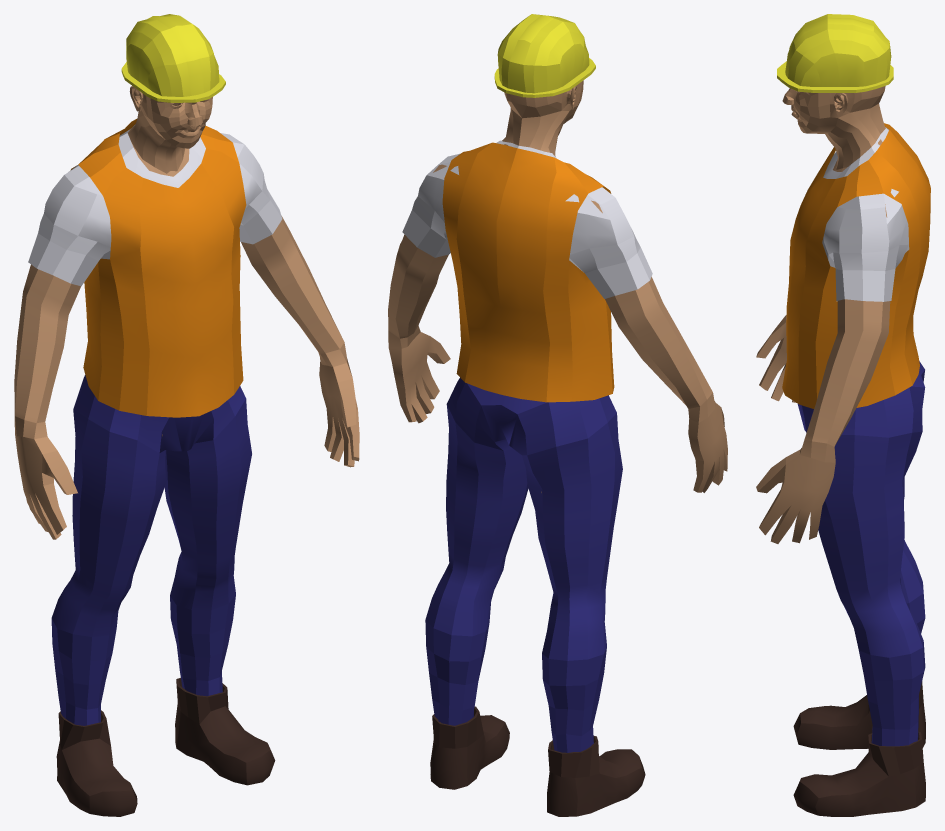
File: construction_worker_model.fbx
The picture shows the model from 3 angles, left to right: view 1: azimuth 30°, elevation 25°; view 2: azimuth 150°, elevation 25°; view 3: azimuth 270°, elevation 25°; orthographic projection.
Visible parts, largest first — view 1: pants, high_viz_vest, character_mesh, character_model_boots1, t_shirt, con_cap; view 2: pants, high_viz_vest, character_mesh, character_model_boots1, t_shirt, con_cap; view 3: pants, high_viz_vest, character_mesh, character_model_boots1, t_shirt, con_cap.
Part boxes in pixels (x1=…): pants: x1=51, y1=375, x2=251, y2=725; high_viz_vest: x1=71, y1=119, x2=246, y2=417; character_mesh: x1=14, y1=86, x2=359, y2=539; character_model_boots1: x1=56, y1=678, x2=275, y2=816; t_shirt: x1=28, y1=124, x2=282, y2=286; con_cap: x1=121, y1=14, x2=225, y2=102; pants: x1=425, y1=377, x2=622, y2=752; high_viz_vest: x1=442, y1=142, x2=614, y2=402; character_mesh: x1=388, y1=80, x2=727, y2=492; character_model_boots1: x1=430, y1=706, x2=645, y2=816; t_shirt: x1=402, y1=140, x2=652, y2=298; con_cap: x1=494, y1=14, x2=595, y2=97; pants: x1=797, y1=361, x2=925, y2=746; high_viz_vest: x1=782, y1=123, x2=930, y2=408; character_mesh: x1=756, y1=86, x2=890, y2=543; character_model_boots1: x1=793, y1=681, x2=925, y2=816; t_shirt: x1=822, y1=127, x2=909, y2=301; con_cap: x1=777, y1=14, x2=893, y2=92.
Size of the model in its own units: 0.8583 by 1.93 by 0.4065.
